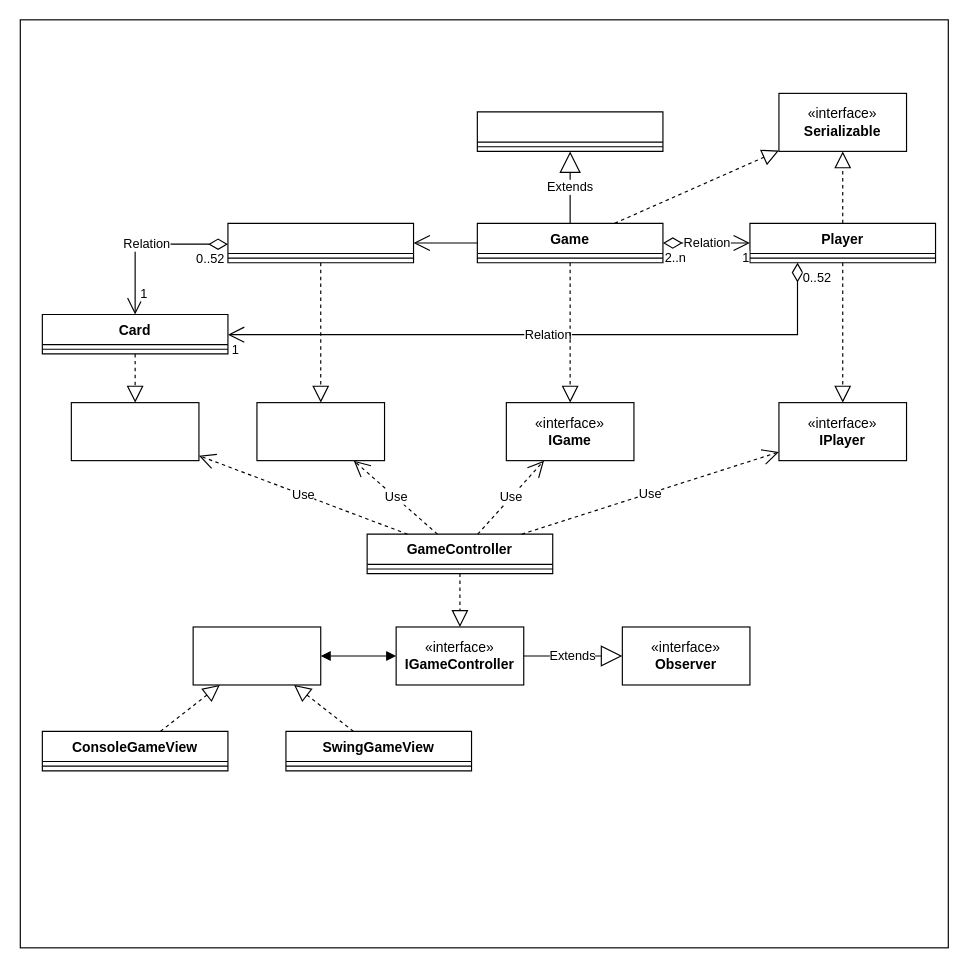
Image size: 969x969. Some labels were removed from this diagram. Each missing label, with the centre of its shape:
Deck: (320,242)
Observable: (569,131)
«interface» ICard: (134,431)
«interface» IDeck: (320,431)
«interface» IGameView: (256,655)
